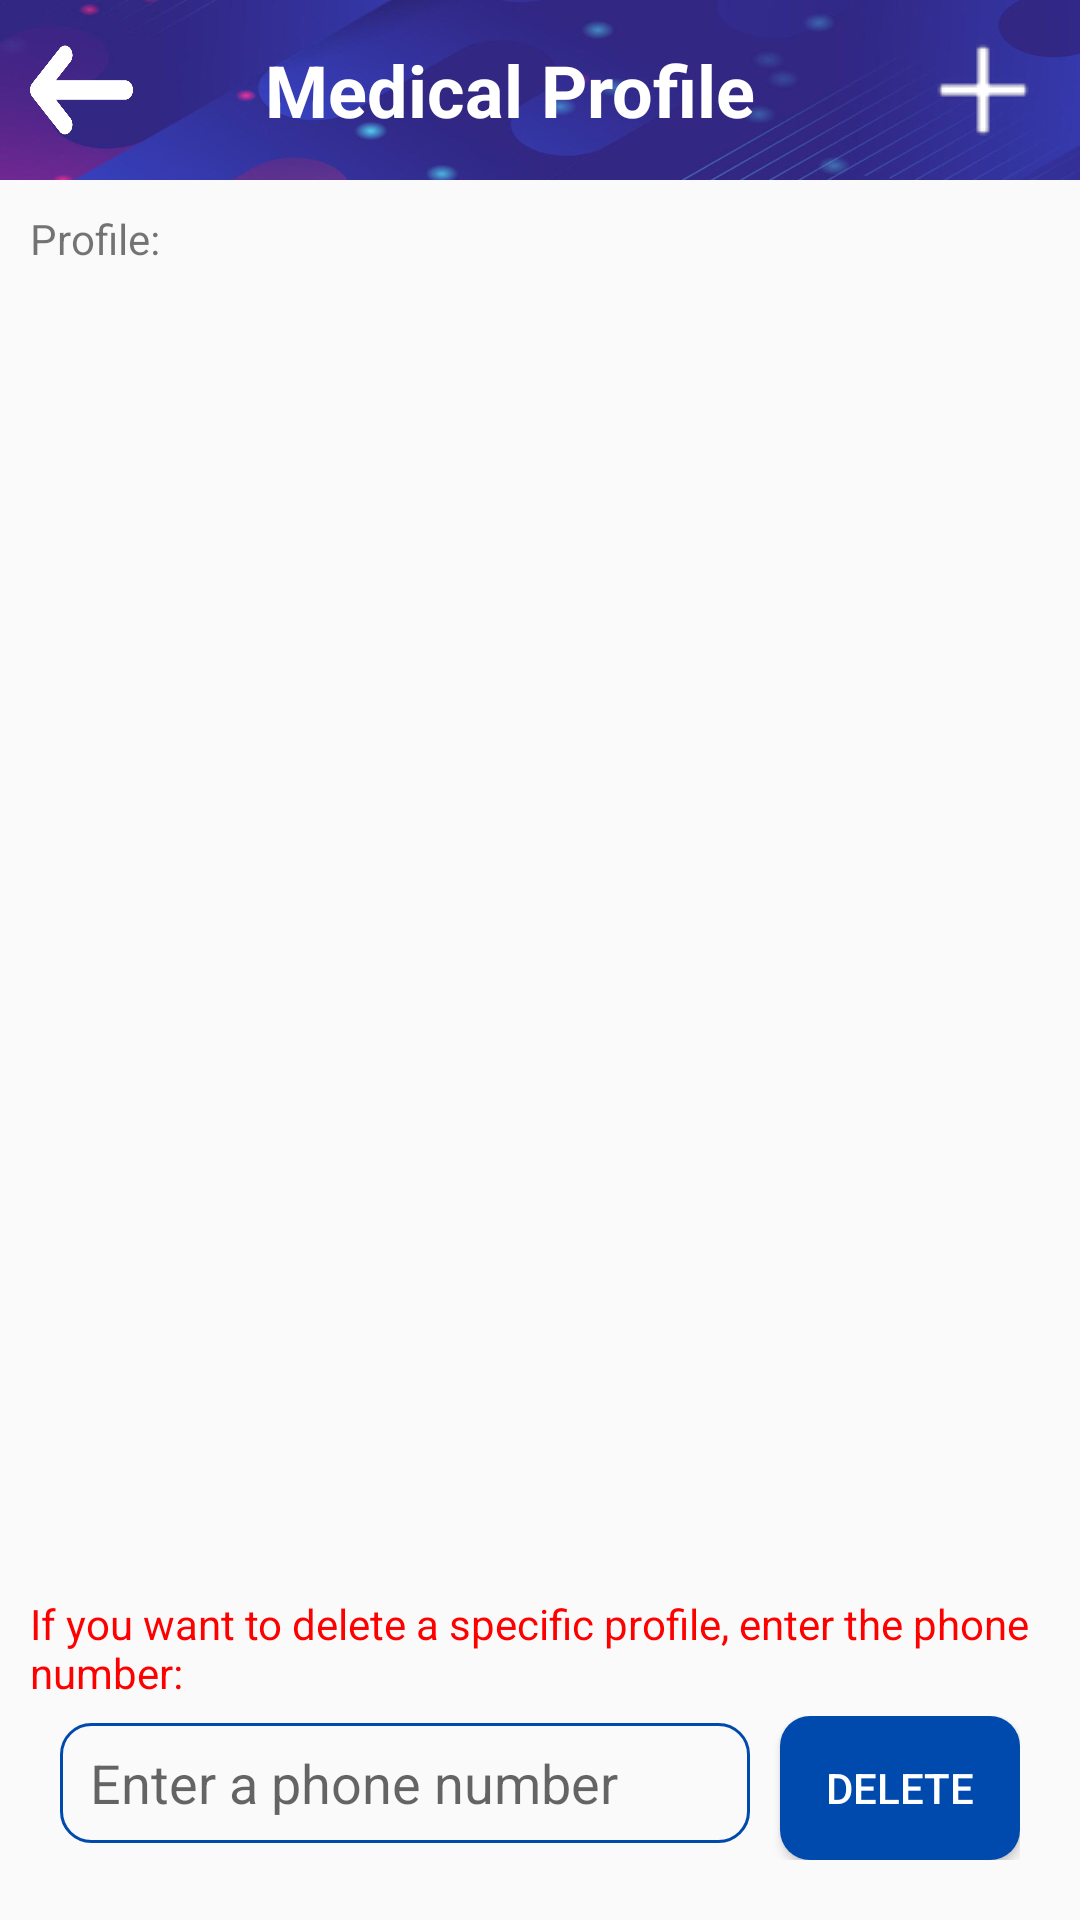

Point at icon controls on the screen. Image size 1080 × 1920, points as point (x, y).
add: point (983, 90)
back: point (81, 90)
